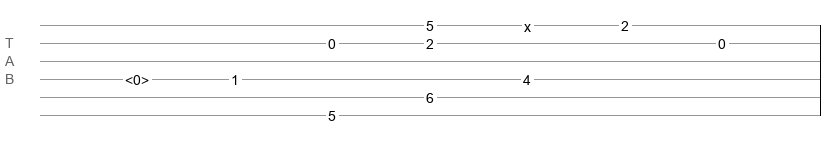0: (328, 36, 336, 46), (718, 36, 726, 46)
1: (231, 72, 239, 82)
2: (426, 36, 434, 46), (621, 18, 629, 28)
4: (523, 72, 531, 82)
5: (328, 108, 336, 118), (426, 18, 434, 28)
6: (426, 90, 434, 100)
harmonic: (125, 72, 149, 82)
x: (524, 19, 531, 27)
